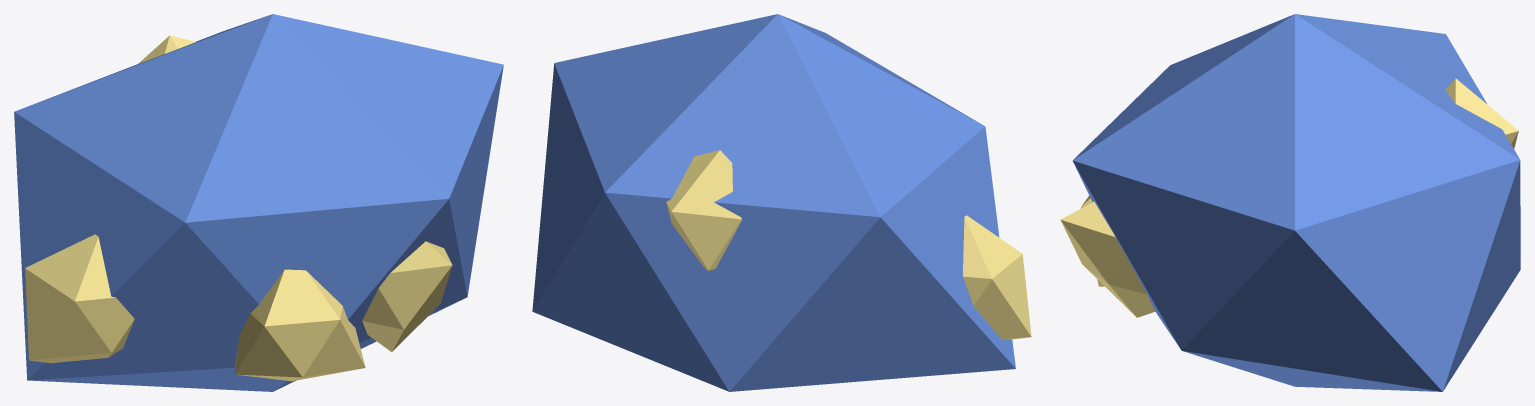
Rendered from lapis_held.gltf.
The picture shows the model from 3 angles, left to right: view 1: azimuth 30°, elevation 25°; view 2: azimuth 150°, elevation 25°; view 3: azimuth 270°, elevation 25°; orthographic projection. The views are drawn at different scales.
Parts seen in each view (by area): view 1: ore_lapis_held; view 2: ore_lapis_held; view 3: ore_lapis_held.
Boxes of the visible parts, <box> form: ore_lapis_held: <box>14,14,503,391</box>; ore_lapis_held: <box>532,14,1031,391</box>; ore_lapis_held: <box>1060,14,1520,391</box>.
Bounding box in the file's own units: 0.1193 × 0.089 × 0.0996.
